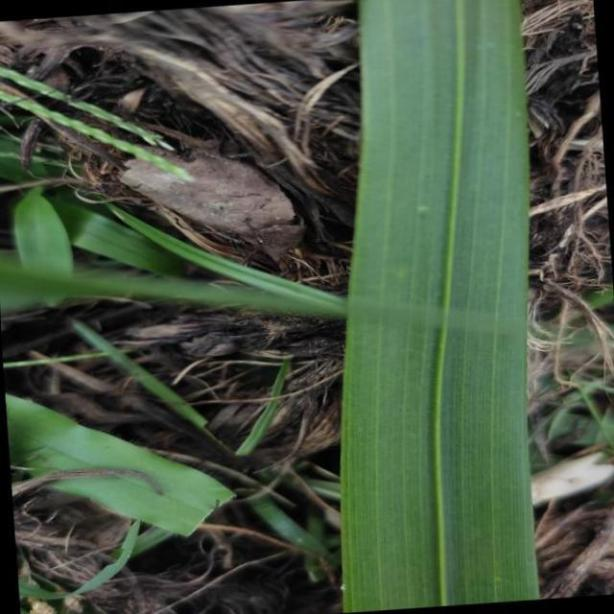Healthy: (340, 3, 530, 614)
